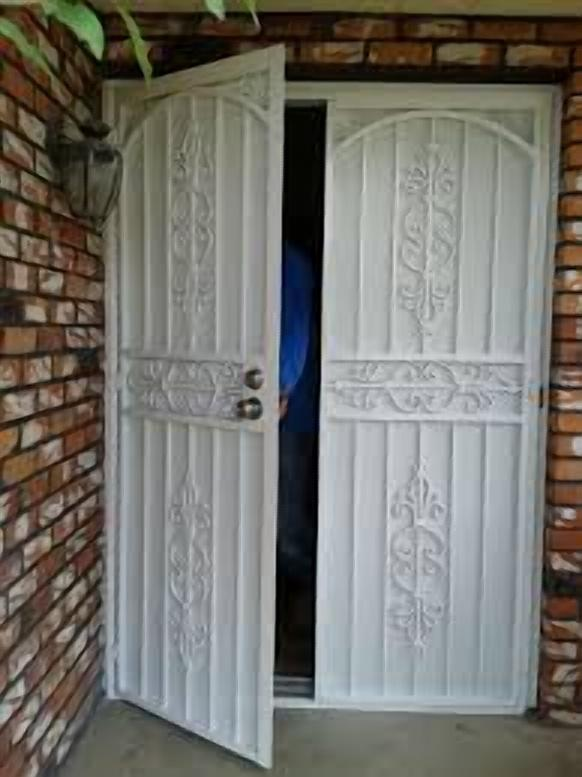Gate: (99, 41, 563, 777)
